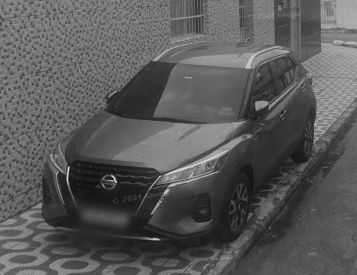car: (37, 41, 324, 233)
